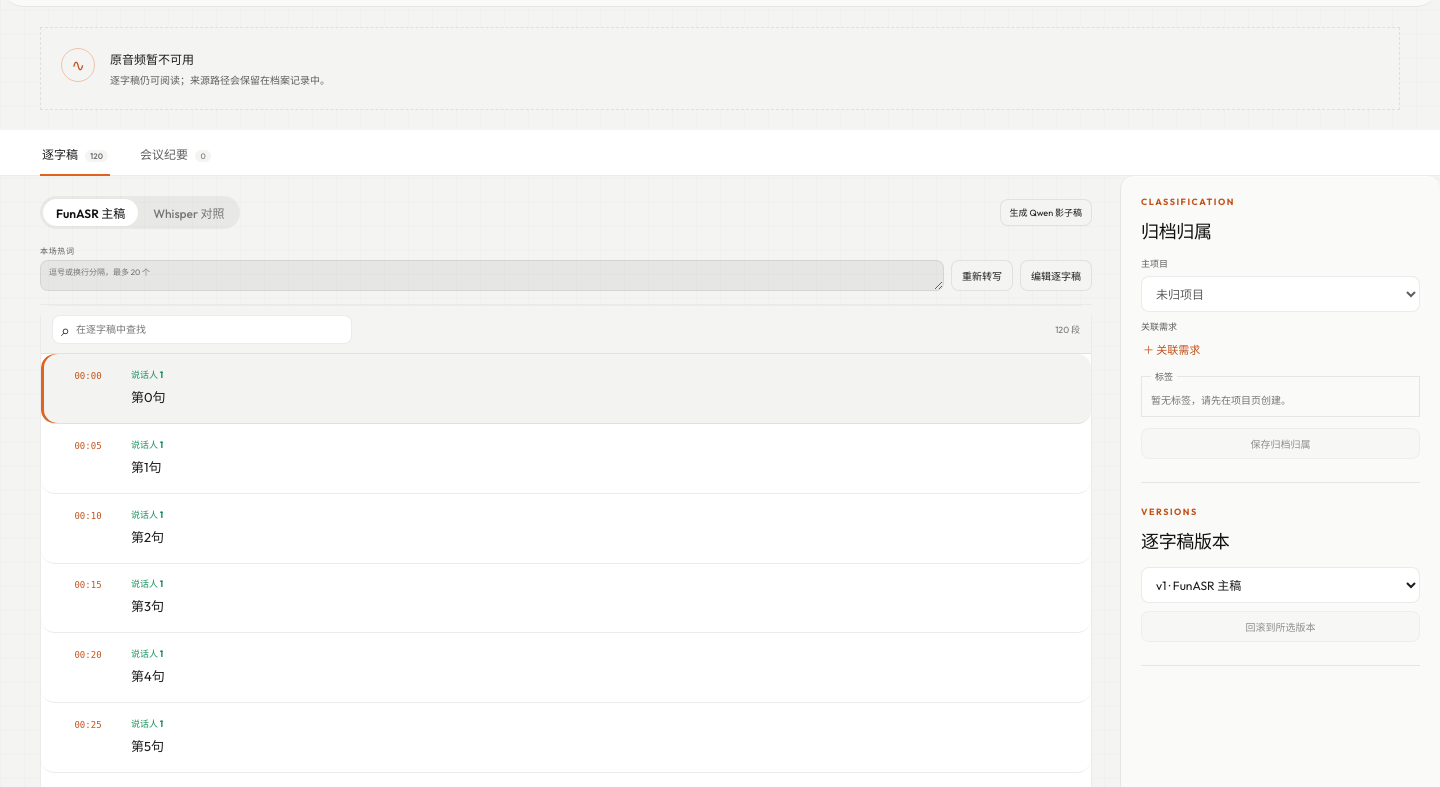
it: MeetingDetailPage 逐字稿编辑的脏判断 › 每敲一个字不再把整份逐字稿序列化（原来是对当前稿和打开时的稿各 JSON.stringify 一遍）
(page scrolled)
Click the button "编辑逐字稿". click: x=1056, y=276
box: [1020,260,1092,291]
(page scrolled)
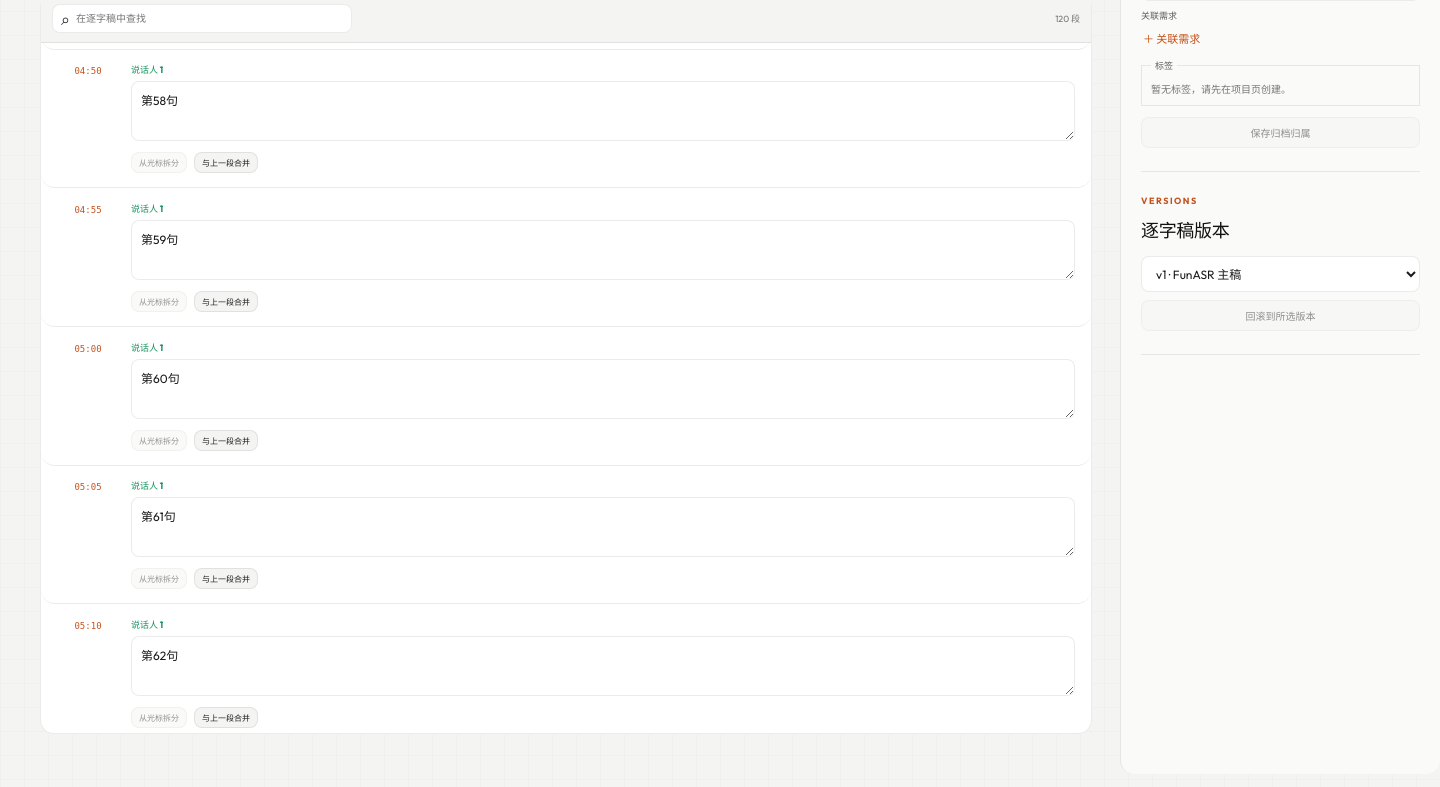
Type "一二三" into the text box named "05:00 逐字稿". click: x=603, y=388
box: [131,359,1075,418]
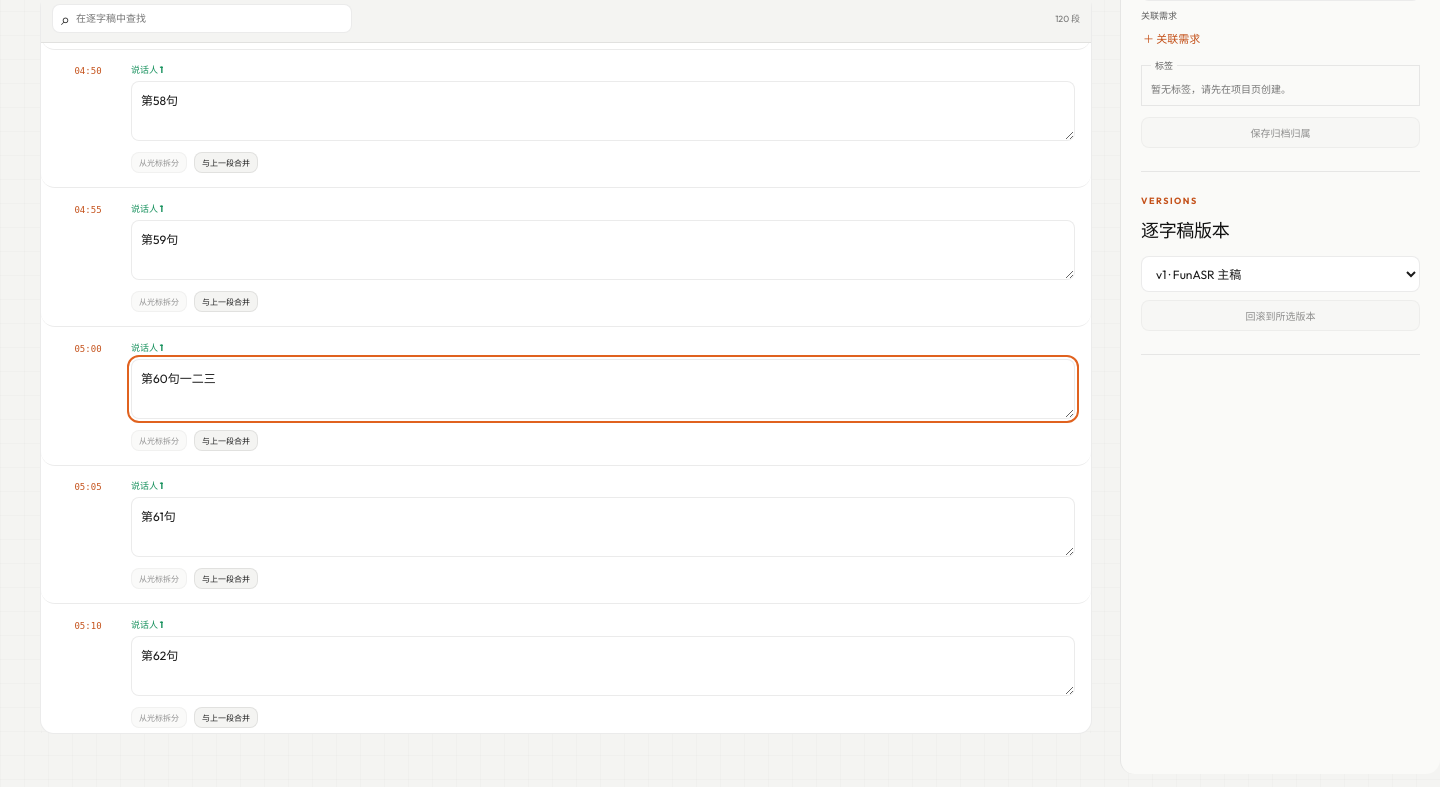
Result: the text box named "05:00 逐字稿" holds "第60句一二三" at [131,359,1075,418]
